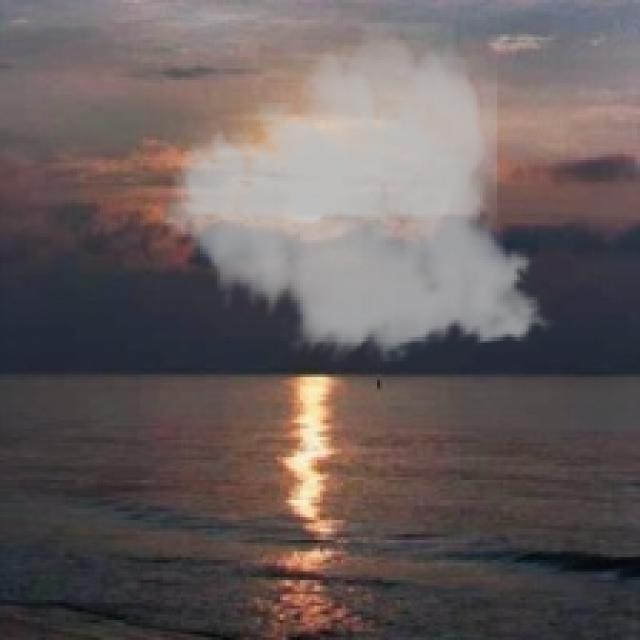smoke: (149, 23, 560, 366)
